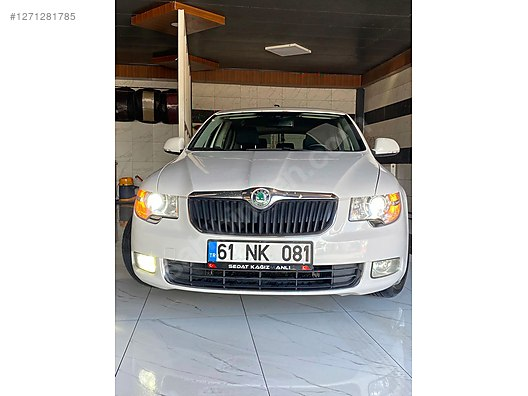plate: (195, 236, 319, 269)
